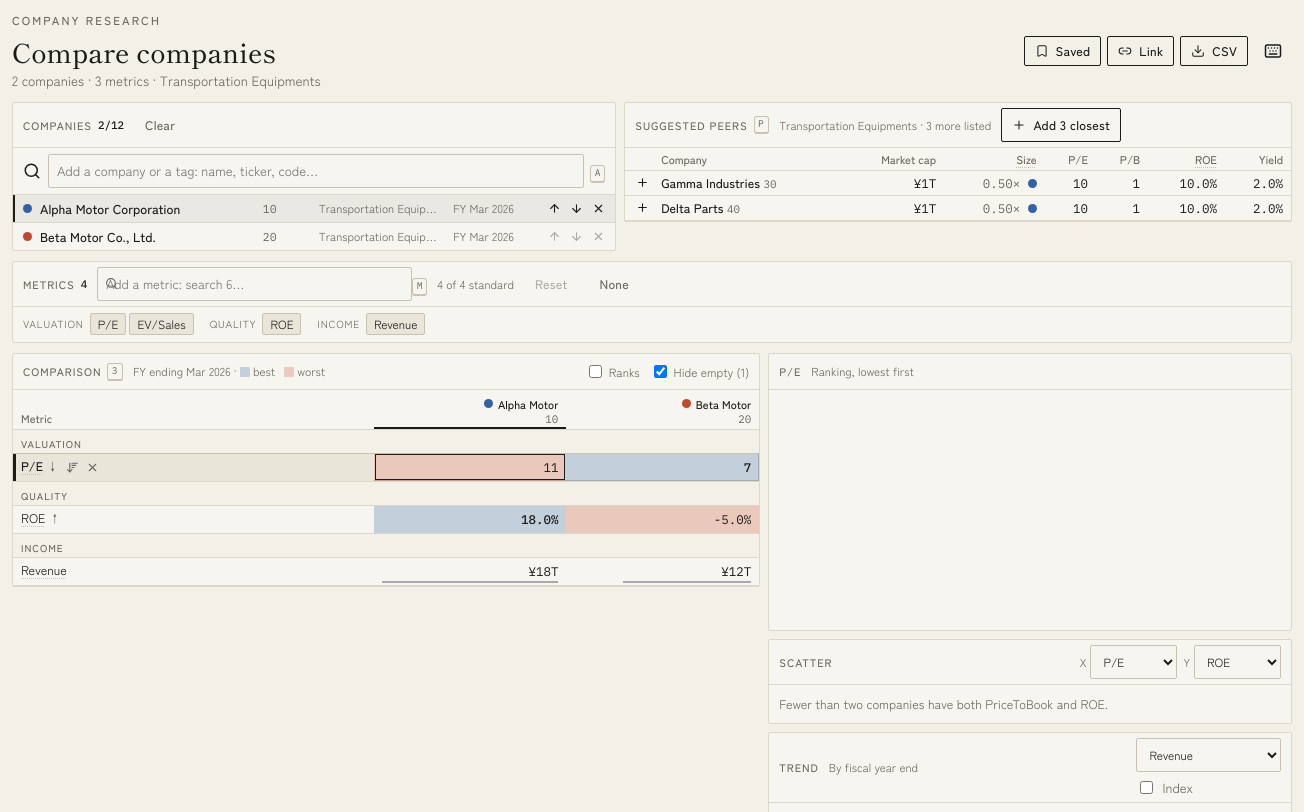
it: ComparisonPage › compares as soon as two companies are chosen and ranks each row
Expected: the table named "Comparison by metric" is shown, [13,390,759,586]
Click the checkbox labelled "Hide empty (1)".
click(660, 371)  # box [654,365,667,378]
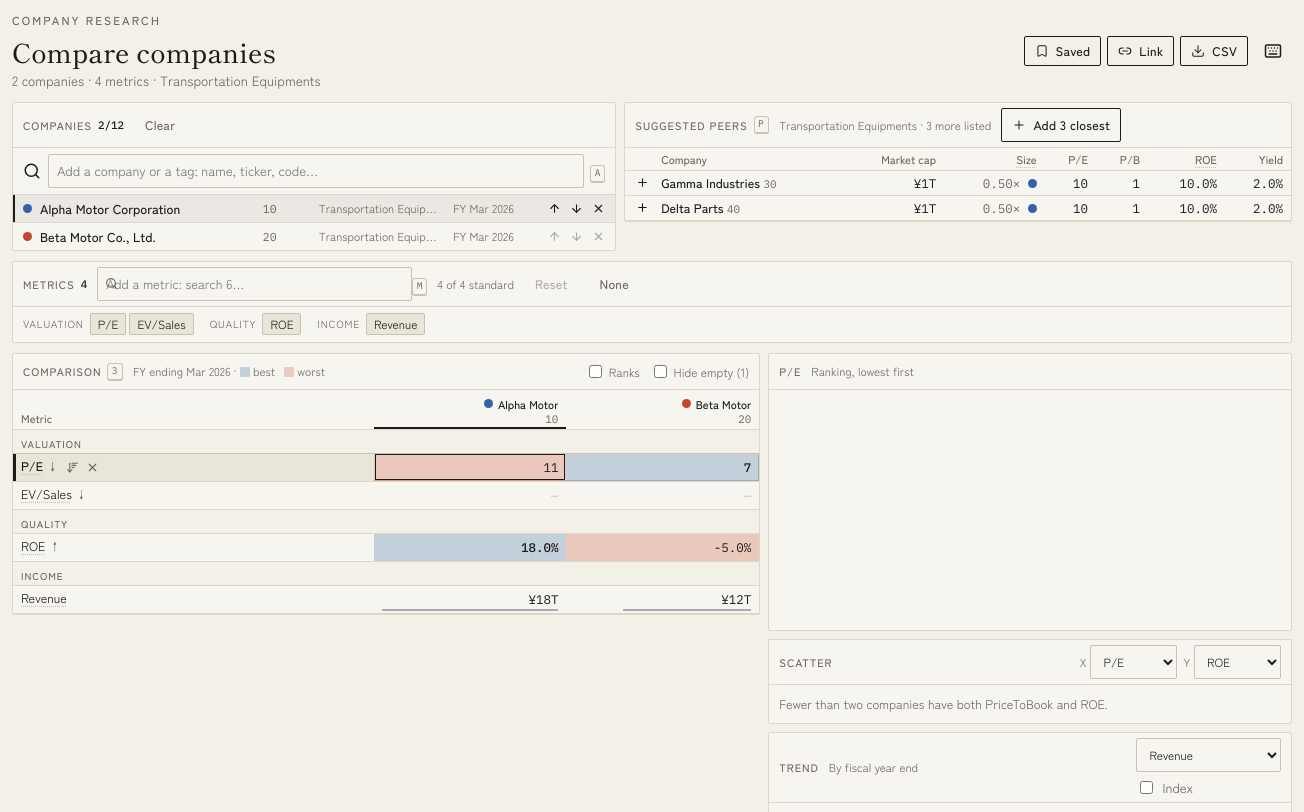
Expected: the text "EV/Sales" is shown, [21,485,72,503]
